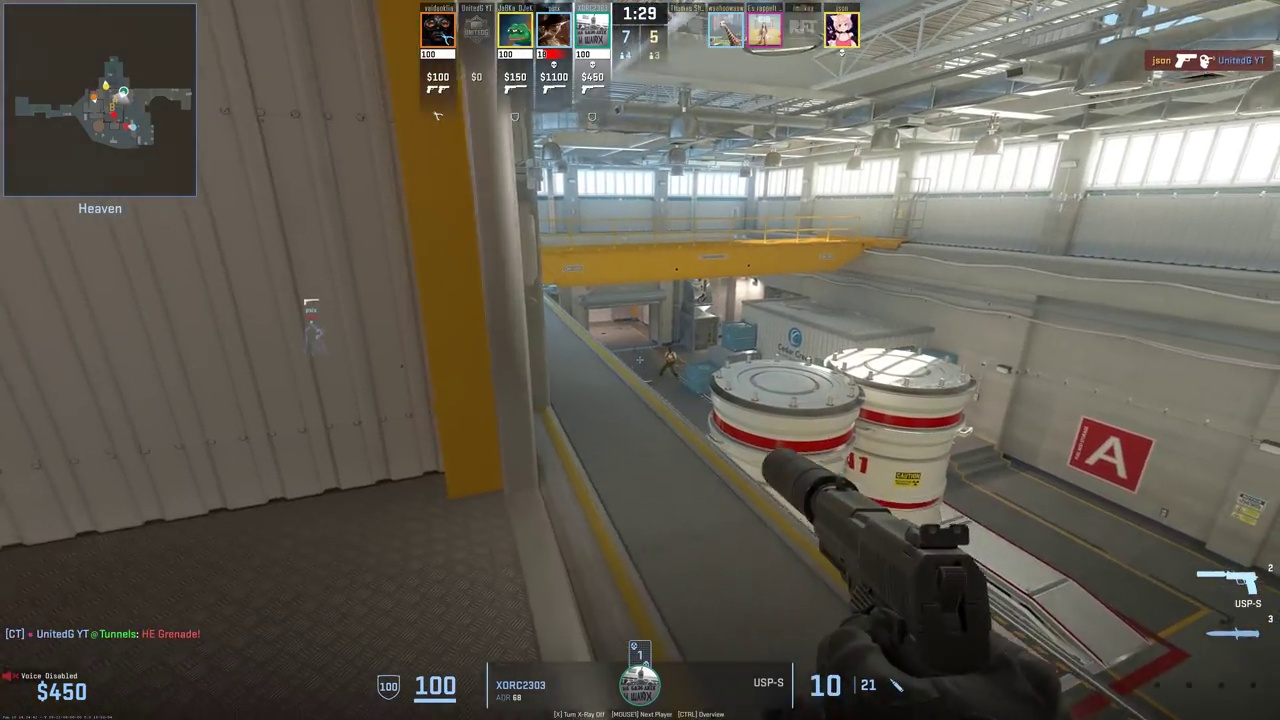Terrorist: (659, 348, 678, 378)
